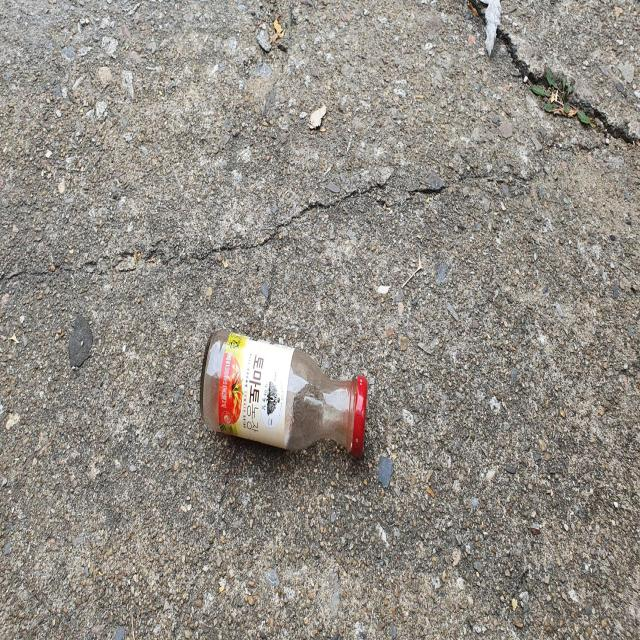glass: (200, 328, 368, 457)
